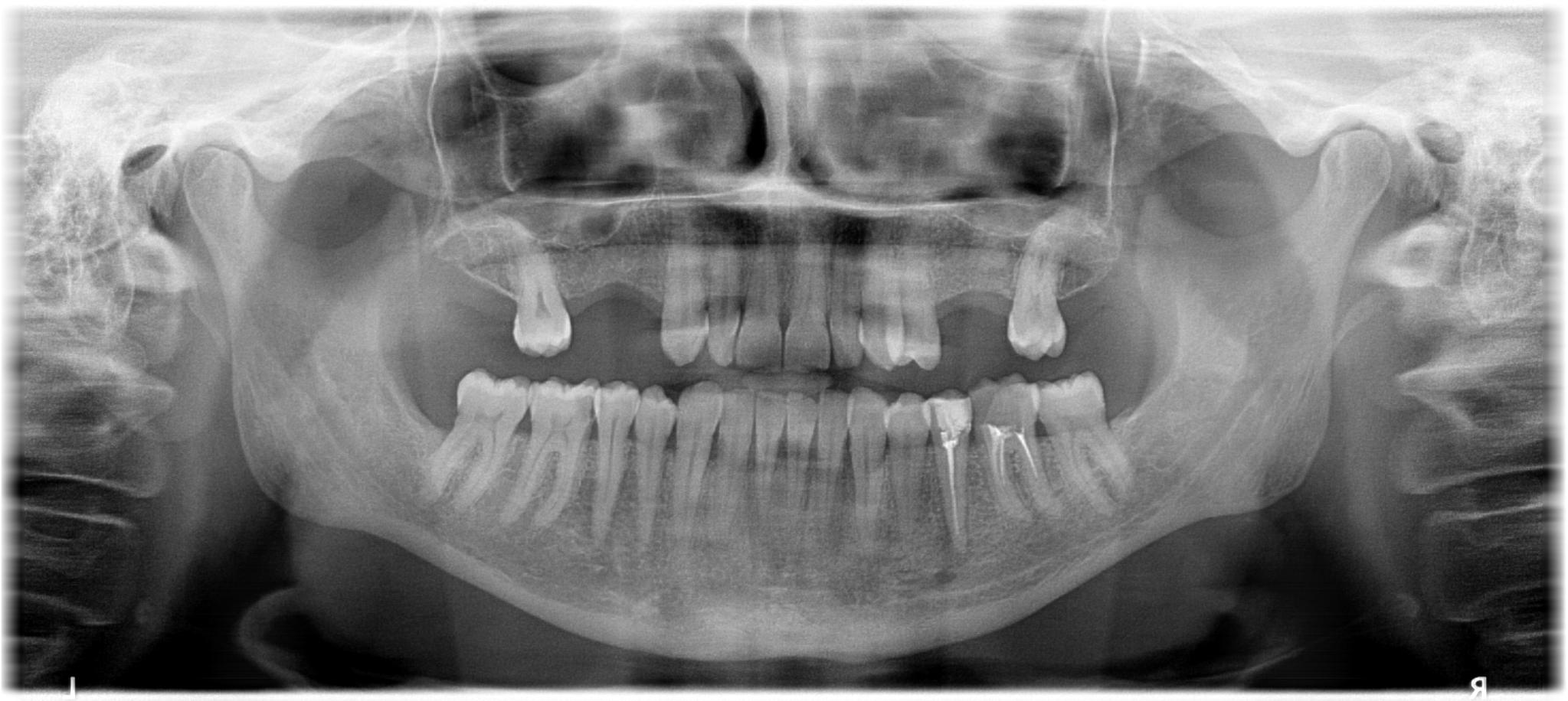Premolars: (525, 181, 1508, 556), (307, 183, 885, 561), (282, 189, 791, 557)
